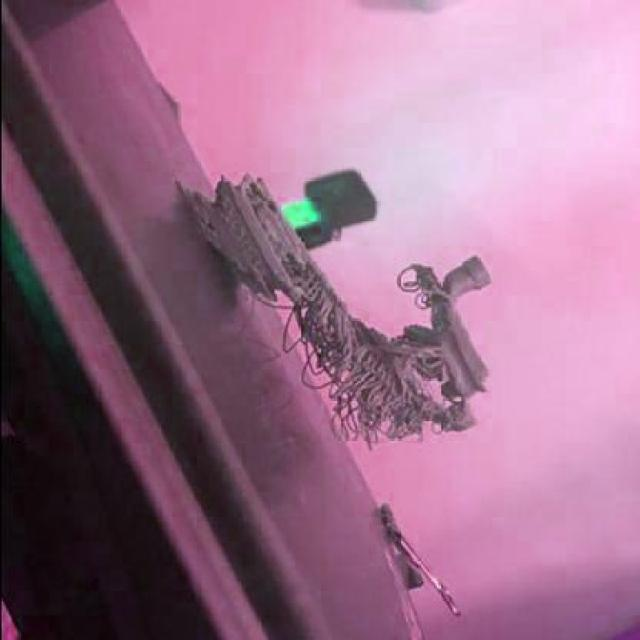Spaghetti: (280, 263, 454, 452)
